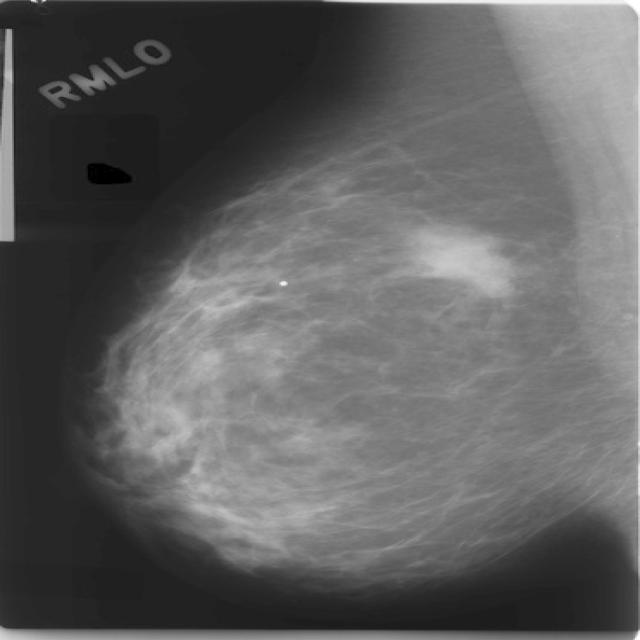tumour: (402, 219, 514, 297)
